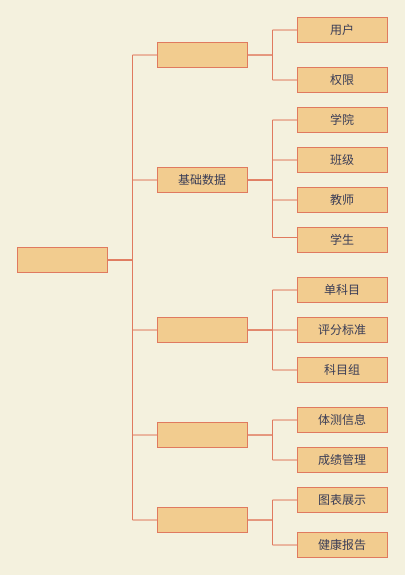
Image size: 405x575. Some labels were removed from this diagram. The shapes that lost their labels are listed below. From the top down, each one's centre as x and y in pixels, then its label:
At [202,55]: "用户与权限".
At [62,259]: "体质健康系统".
At [202,329]: "科目".
At [202,435]: "体质测试".
At [202,519]: "统计分析".
